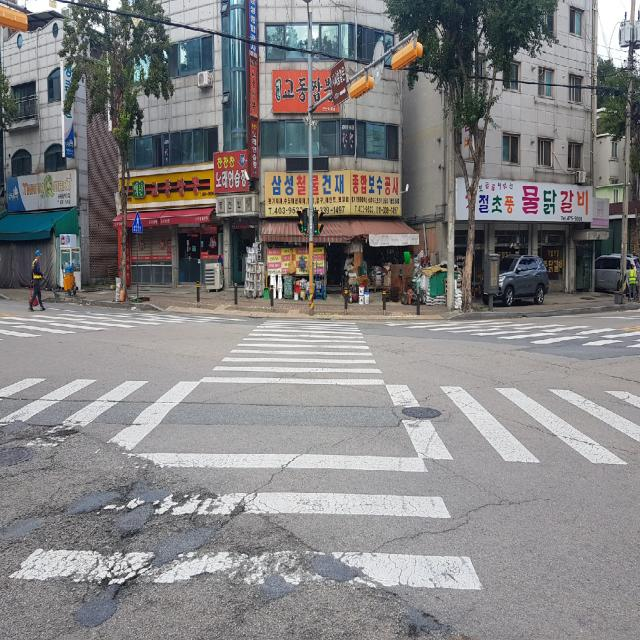횡단보도: (9, 319, 484, 592), (399, 317, 640, 472)
